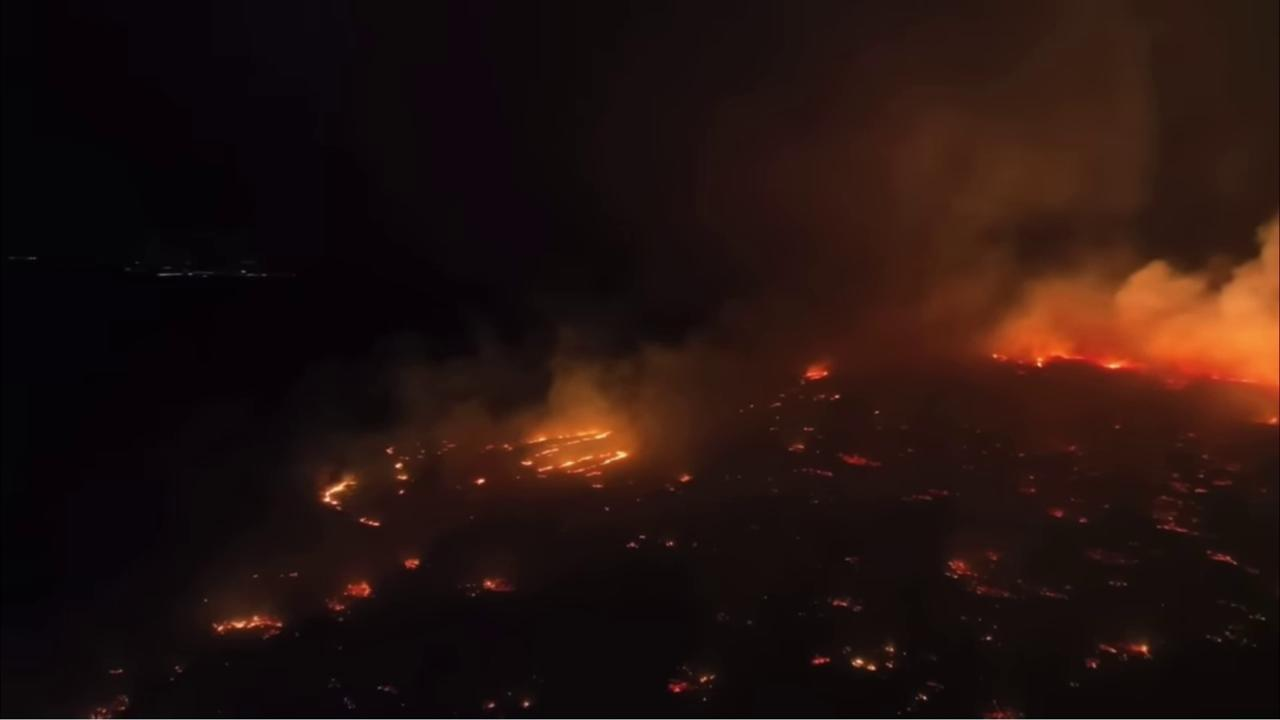fire: (501, 425, 632, 490), (938, 544, 1020, 602), (1147, 472, 1208, 535), (988, 347, 1147, 371), (204, 612, 287, 643), (1081, 639, 1153, 670), (321, 577, 374, 617), (317, 469, 357, 513), (664, 663, 717, 695), (851, 640, 897, 673), (84, 692, 133, 720), (976, 699, 1027, 719), (480, 574, 519, 595), (839, 450, 882, 468), (909, 485, 951, 503), (1205, 549, 1240, 568), (802, 363, 831, 385), (1208, 372, 1257, 384), (799, 466, 833, 479), (403, 555, 422, 574), (827, 595, 852, 609), (356, 517, 382, 530), (810, 655, 831, 667), (1046, 507, 1065, 520), (1210, 478, 1233, 488), (786, 441, 806, 452), (1017, 485, 1038, 495), (108, 667, 126, 677), (472, 475, 487, 487), (679, 473, 694, 483), (392, 461, 405, 471), (385, 444, 395, 457), (626, 541, 640, 550), (664, 540, 677, 549), (397, 472, 409, 481), (520, 701, 532, 710), (1077, 516, 1089, 525), (483, 702, 496, 709), (398, 487, 406, 496), (1113, 422, 1121, 431)
smoke: (154, 0, 1280, 668)
